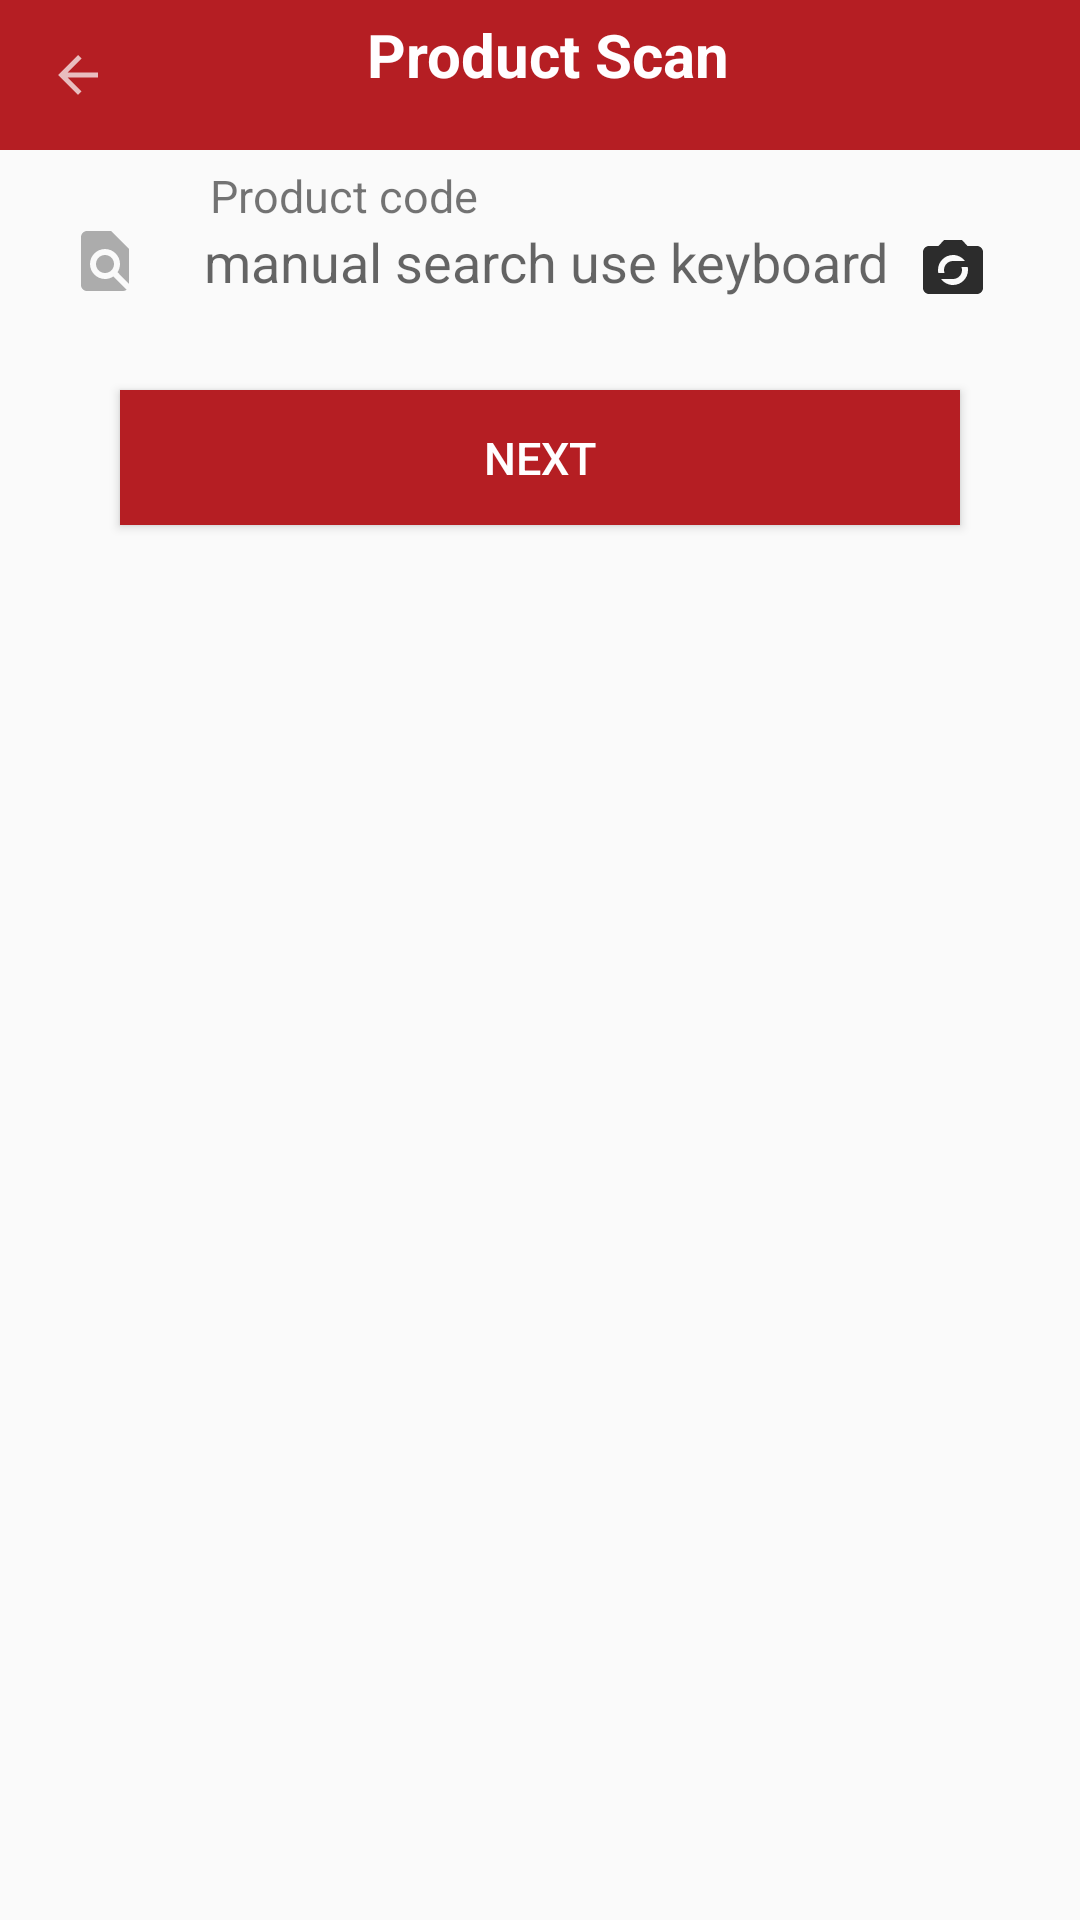

Named icons in this screenshot (1080 x 1920) and their bounding boxes, (x1, y1, x2, y2):
rof backbutton: (58, 55, 98, 95)
rof camera: (923, 240, 983, 294)
scan: (81, 231, 129, 291)
